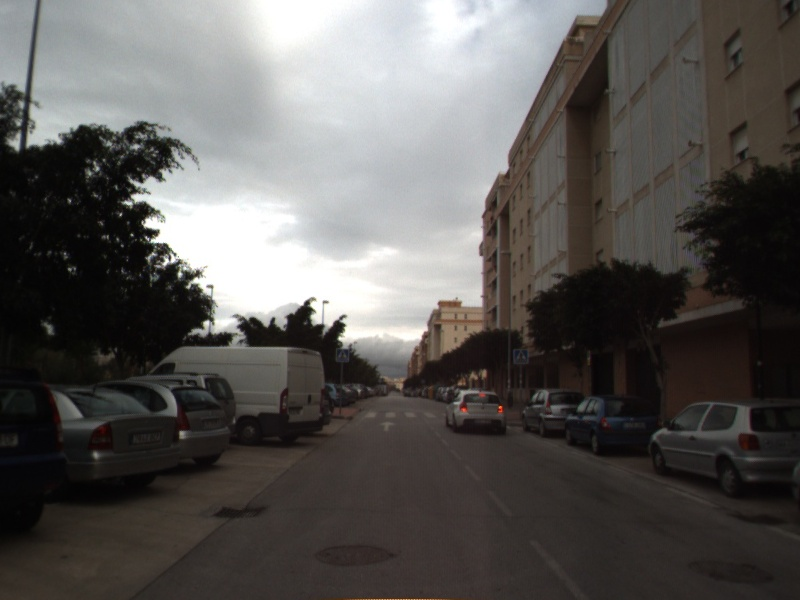STRAIGHT: (378, 419, 398, 433)
